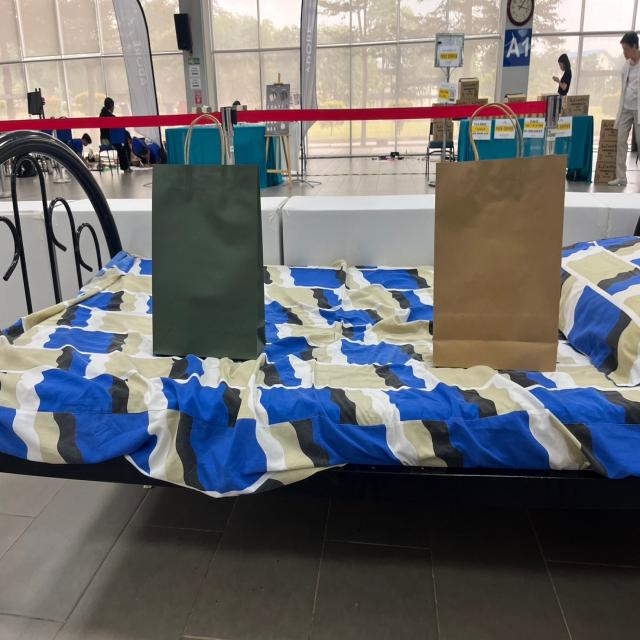bag: (146, 93, 262, 351), (440, 104, 556, 350)
